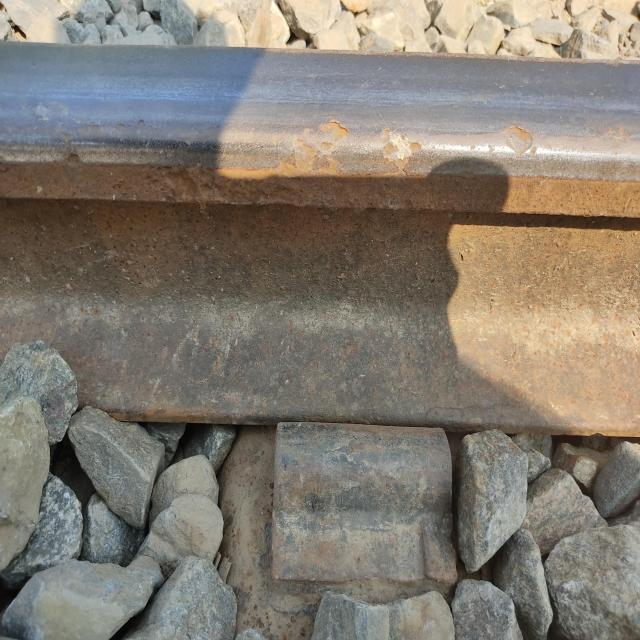broken_rail_medium: (86, 116, 150, 140), (502, 121, 538, 159), (291, 130, 325, 163), (604, 122, 632, 150), (317, 121, 351, 143)
